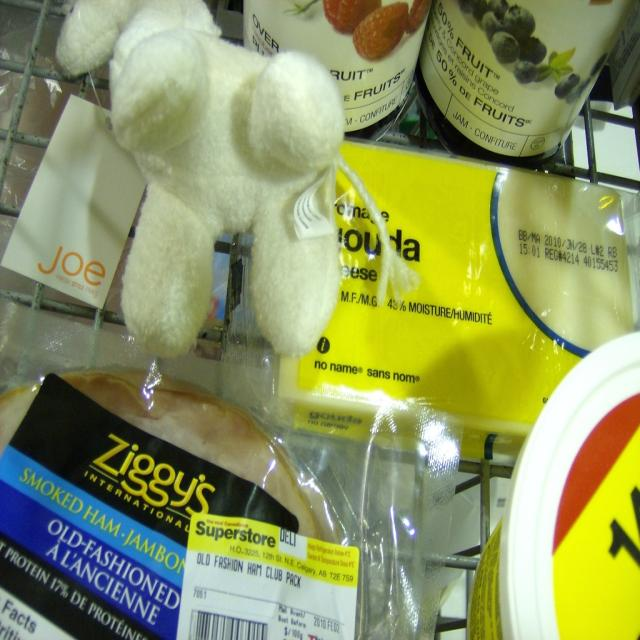Toy: (110, 16, 352, 402)
